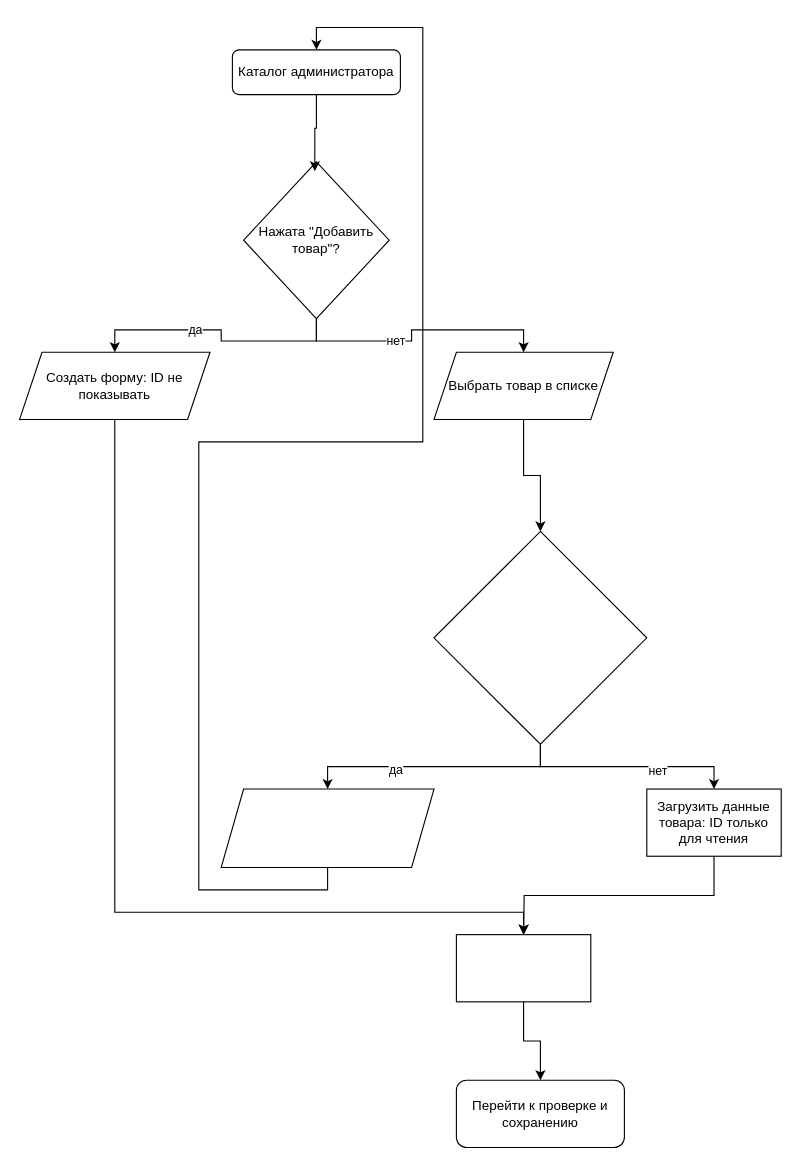
The diagram is 801 pixels wide and 1167 high, and some of its shapes have lost their labels. Here are the shapes that lost their labels. From the top down, the centre of each, then its label:
At (x=540, y=637): "Форма редактирование уже открыта?".
At (x=327, y=827): "Сообщение: можно открыть только одну форму".
At (x=523, y=968): "Открыть форму с полями товара".
